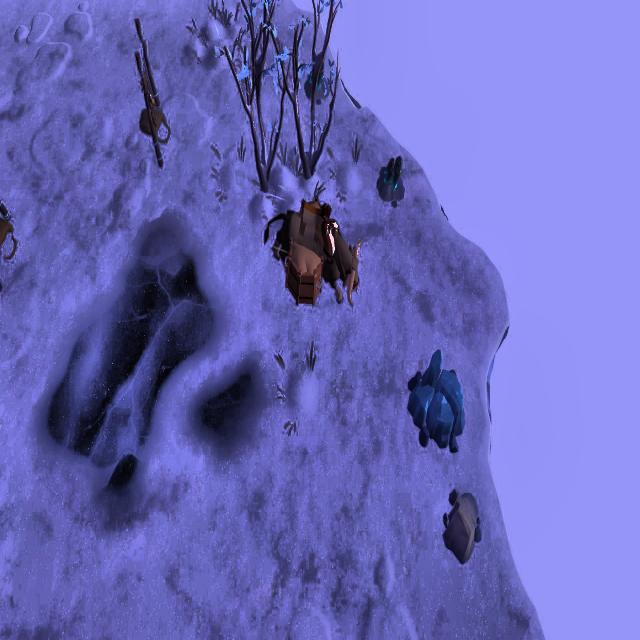ore_t4: (379, 155, 403, 195)
rock_t4: (408, 351, 464, 452)
